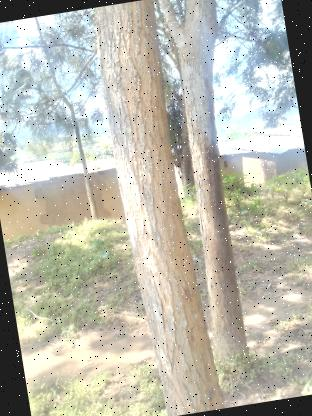tree: (86, 0, 225, 416), (157, 0, 276, 377)
